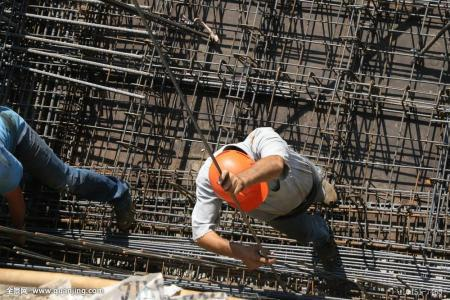helmet: (200, 143, 271, 211)
